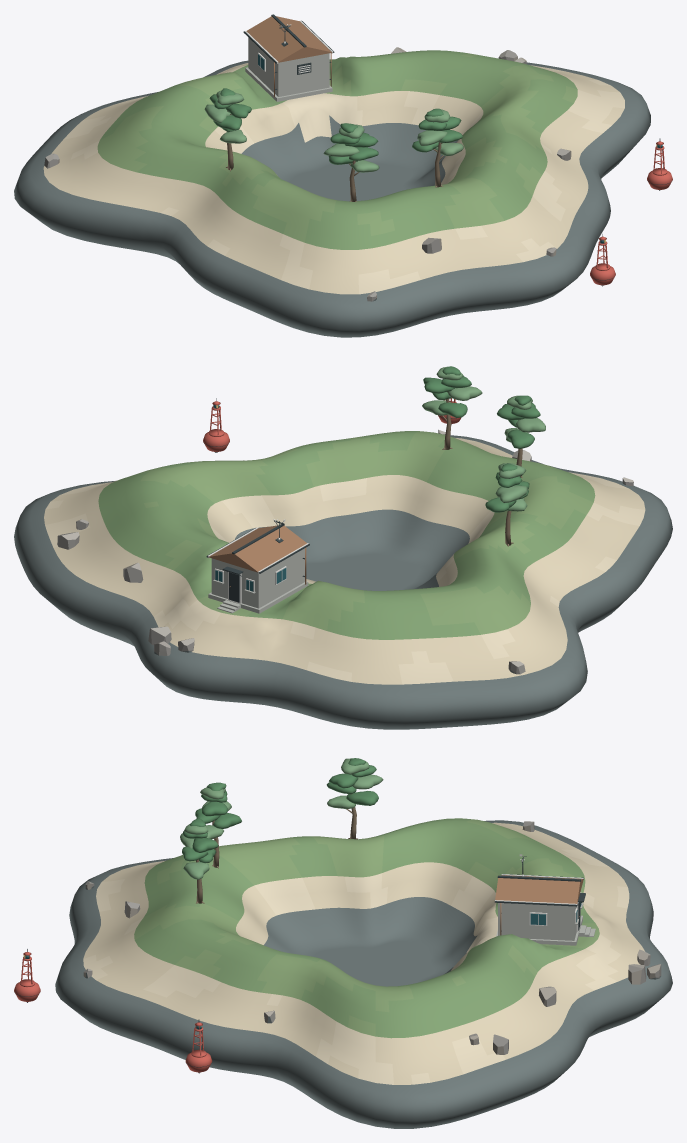
The model's file is ENV_Atoll.fbx.
3 views of the same model, one above another, from view 1: azimuth 30°, elevation 25°; view 2: azimuth 150°, elevation 25°; view 3: azimuth 270°, elevation 25° (orthographic). The views are drawn at different scales.
Parts seen in each view (by area): view 1: TerrainShell, ENV_CoastShed_0_Visual, ENV_CoastalPine_2_Visual.001, ENV_CoastalPine_1_Visual, ENV_CoastalPine_3_Visual.001, Decor_Visual.001, ENV_NavigationBuoy_4_Visual, ENV_NavigationBuoy_5_Visual.001; view 2: TerrainShell, ENV_CoastShed_0_Visual, ENV_CoastalPine_1_Visual, Decor_Visual.001, ENV_CoastalPine_2_Visual.001, ENV_CoastalPine_3_Visual.001, ENV_NavigationBuoy_4_Visual; view 3: TerrainShell, ENV_CoastShed_0_Visual, ENV_CoastalPine_3_Visual.001, Decor_Visual.001, ENV_CoastalPine_1_Visual, ENV_CoastalPine_2_Visual.001, ENV_NavigationBuoy_4_Visual, ENV_NavigationBuoy_5_Visual.001.
Boxes of the visible parts, x1,y1,x2,y2 form: TerrainShell: [14, 50, 650, 337]; ENV_CoastShed_0_Visual: [243, 14, 334, 101]; ENV_CoastalPine_2_Visual.001: [323, 123, 379, 201]; ENV_CoastalPine_1_Visual: [412, 108, 463, 187]; ENV_CoastalPine_3_Visual.001: [204, 88, 251, 171]; Decor_Visual.001: [44, 47, 571, 301]; ENV_NavigationBuoy_4_Visual: [647, 138, 672, 190]; ENV_NavigationBuoy_5_Visual.001: [590, 234, 615, 286]; TerrainShell: [14, 431, 672, 729]; ENV_CoastShed_0_Visual: [206, 520, 309, 613]; ENV_CoastalPine_1_Visual: [422, 366, 482, 449]; Decor_Visual.001: [57, 429, 633, 674]; ENV_CoastalPine_2_Visual.001: [497, 395, 545, 477]; ENV_CoastalPine_3_Visual.001: [485, 463, 529, 546]; ENV_NavigationBuoy_4_Visual: [203, 398, 229, 452]; TerrainShell: [55, 818, 672, 1128]; ENV_CoastShed_0_Visual: [494, 857, 595, 945]; ENV_CoastalPine_3_Visual.001: [326, 758, 383, 839]; Decor_Visual.001: [83, 821, 661, 1054]; ENV_CoastalPine_1_Visual: [180, 818, 218, 903]; ENV_CoastalPine_2_Visual.001: [195, 782, 241, 868]; ENV_NavigationBuoy_4_Visual: [185, 1019, 212, 1073]; ENV_NavigationBuoy_5_Visual.001: [14, 949, 40, 1002].
Bounding box in the file's own units: 3534 × 944 × 3433.
